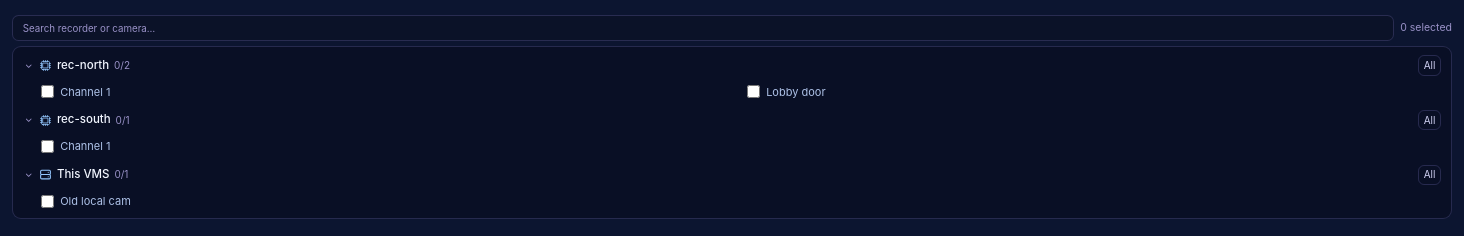
Test: search › says nothing matched rather than showing an empty box
In the field labelled "Search recorder or camera…": (703, 28) [12,15,1394,41], type "zzz"
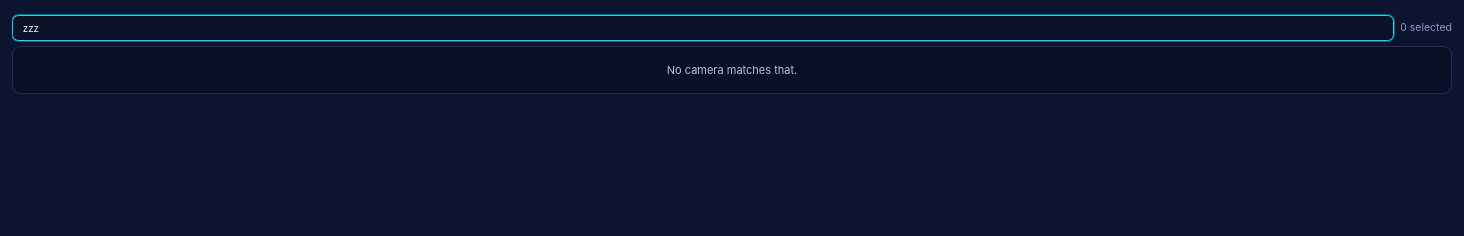
Check: the text "No camera matches that." is shown, box [667,63,797,77]
